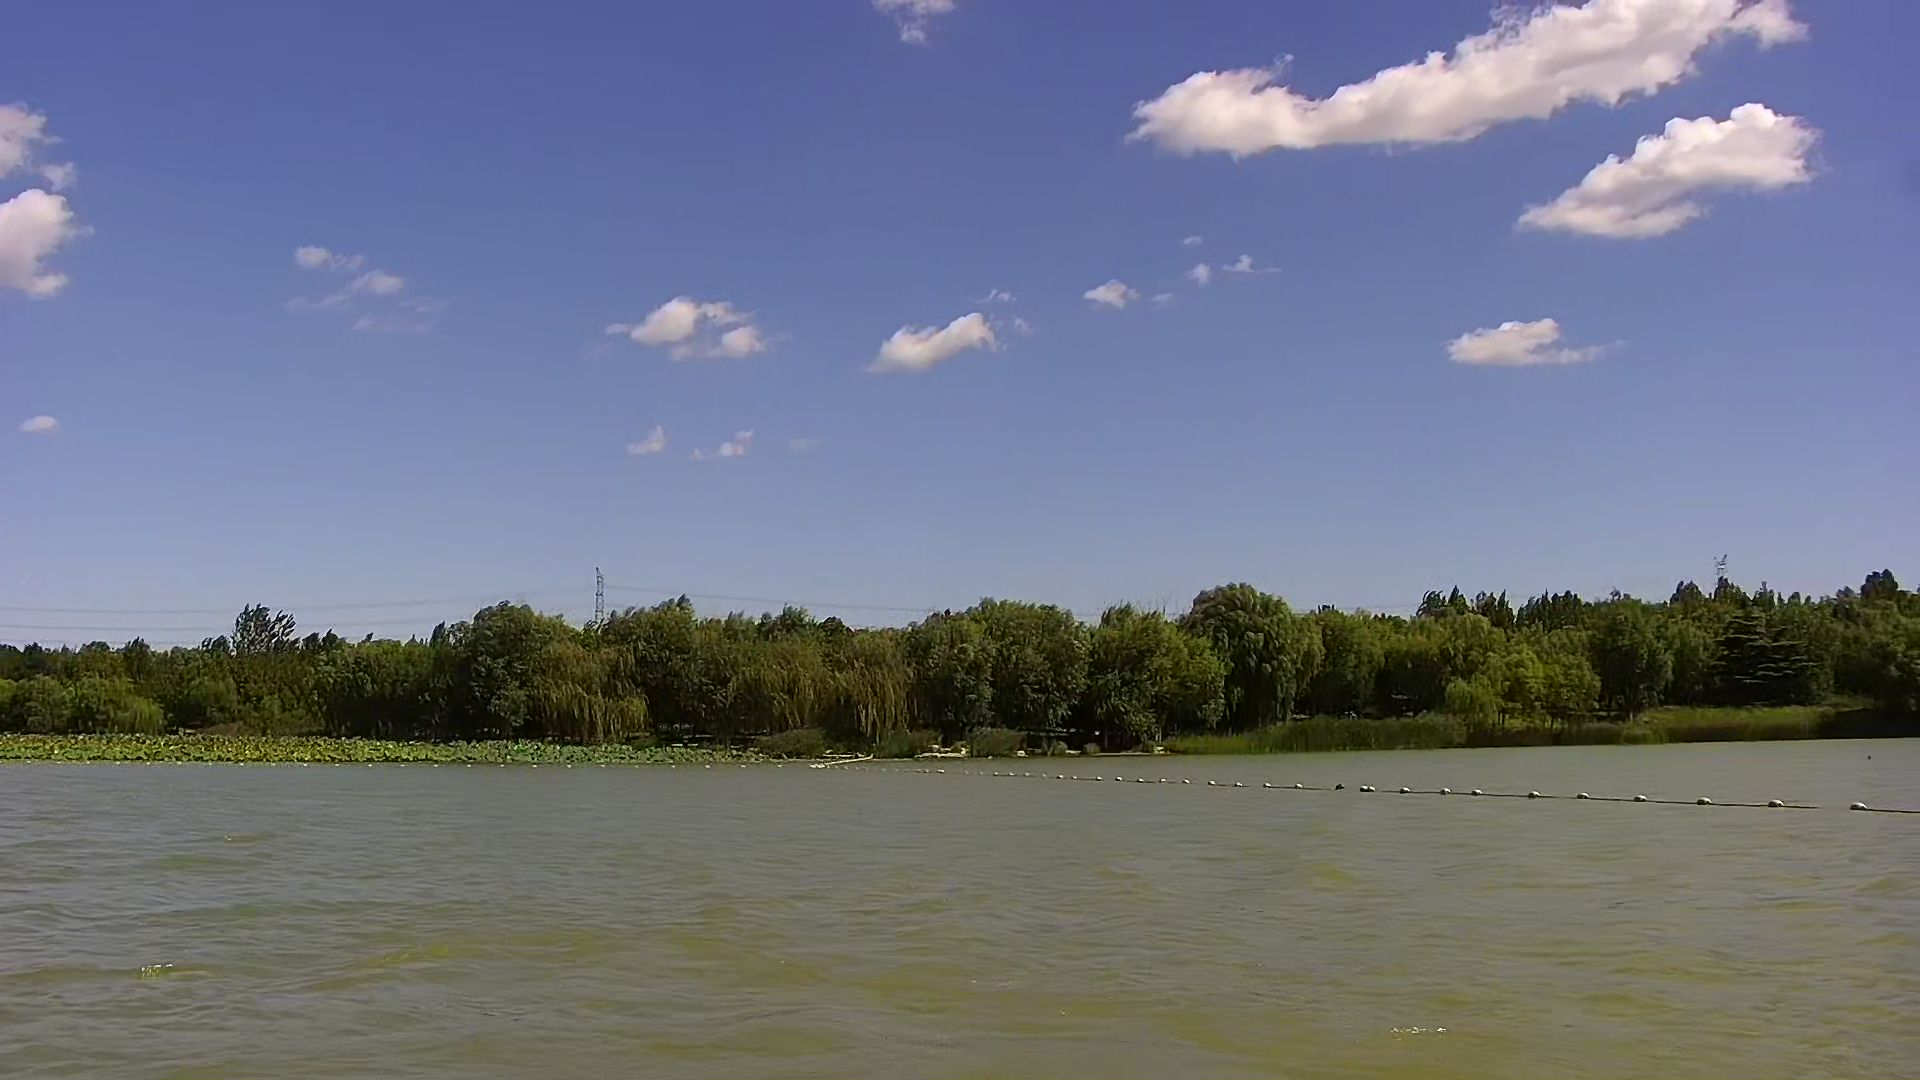ball: (1760, 789, 1801, 824), (1849, 789, 1884, 824), (1520, 781, 1555, 814), (1691, 786, 1721, 820), (1573, 781, 1602, 810), (1352, 771, 1379, 800), (1631, 785, 1655, 816), (1435, 774, 1461, 800), (1469, 778, 1487, 806), (1393, 781, 1415, 796)
